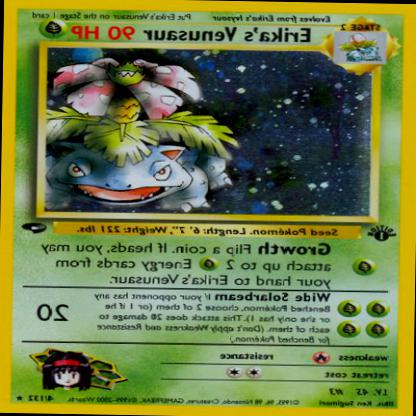Venusaur: (50, 55, 245, 215)
